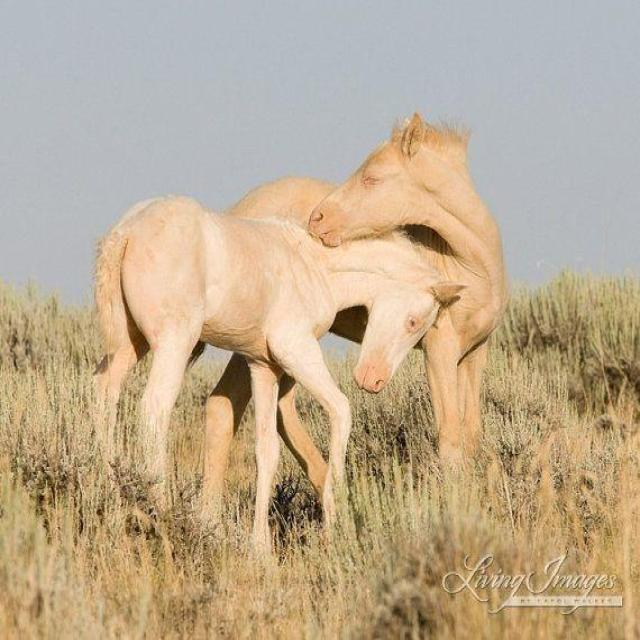horse: (91, 176, 468, 559)
